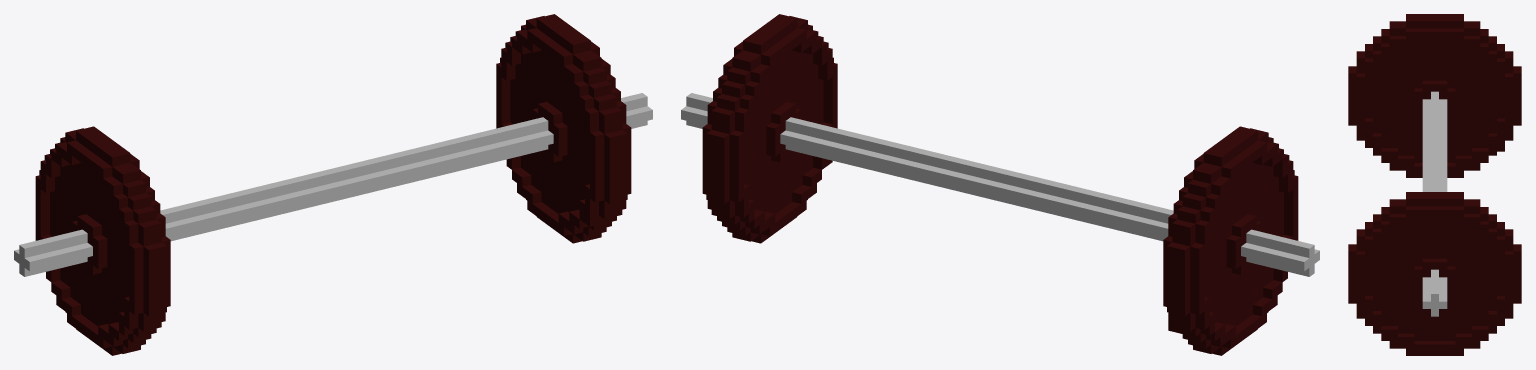
File: supino.obj
The picture shows the model from 3 angles, left to right: view 1: azimuth 30°, elevation 25°; view 2: azimuth 150°, elevation 25°; view 3: azimuth 270°, elevation 25°; orthographic projection. The views are drawn at different scales.
Parts seen in each view (by area): view 1: supino; view 2: supino; view 3: supino.
Boxes of the visible parts, <box> form: supino: <box>14,14,652,355</box>; supino: <box>681,14,1319,355</box>; supino: <box>1348,14,1521,355</box>.
Bounding box in the file's own units: 69 × 21 × 21.
1 material, 1 textured.
